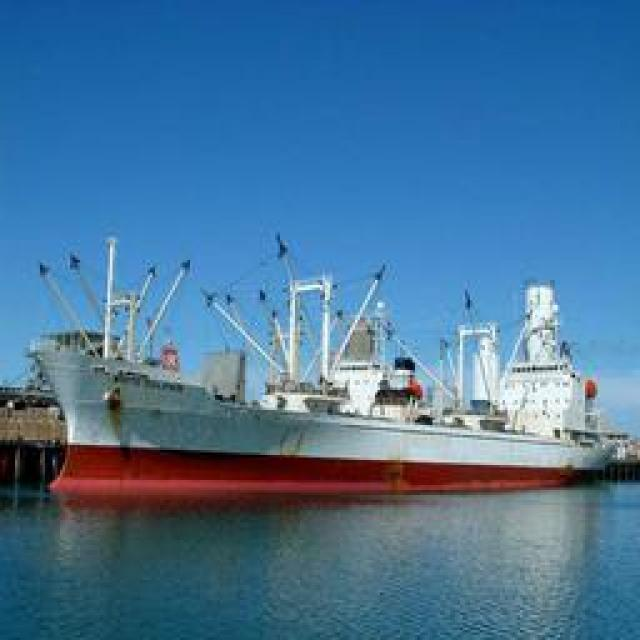CIV_Ship: (27, 232, 625, 490)
